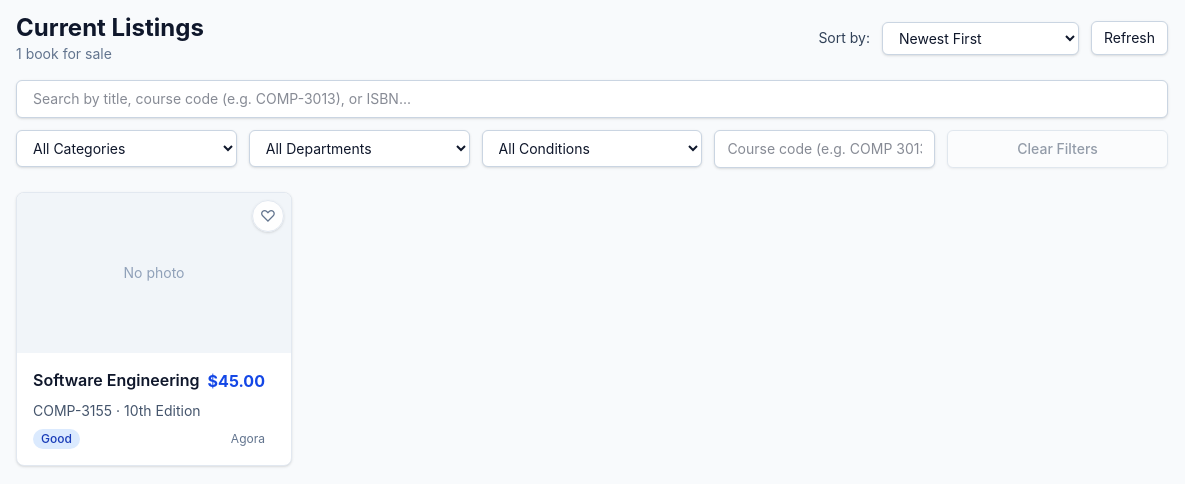
Test case: ListingsView Component › resets all filters and sorting when 'Clear Filters' is clicked
Check: the heading "Software Engineering" is shown, box [33, 369, 200, 391]
Check: the dropdown named "Filter by department" is enabled, box [249, 130, 470, 167]
Select "Textbooks (TEXT)" in the dropdown named "Filter by category" at (126, 148), box [16, 130, 237, 167]
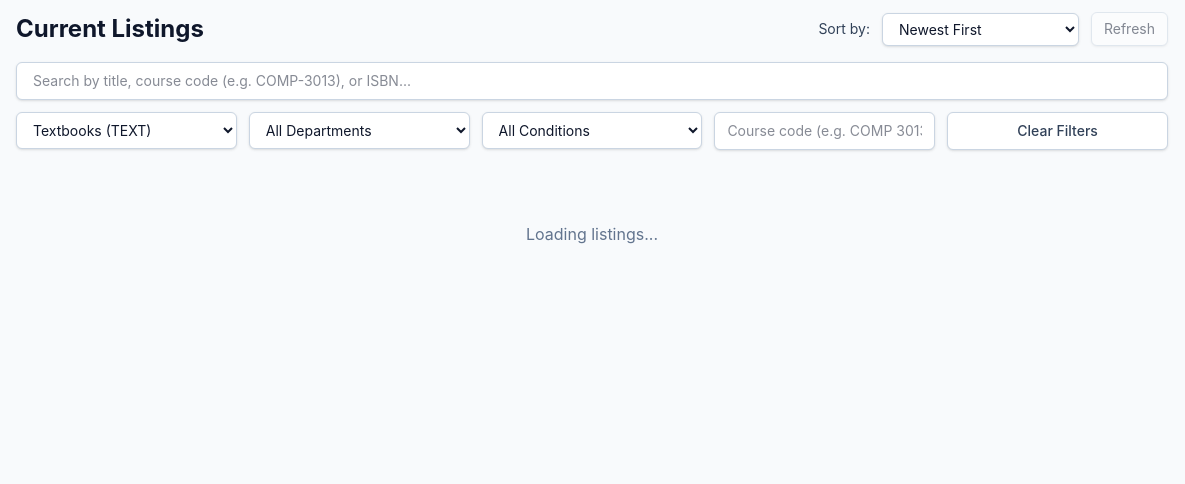
Select "Computer Science (COMP)" in the dropdown named "Filter by department" at (359, 130), box [249, 112, 470, 149]
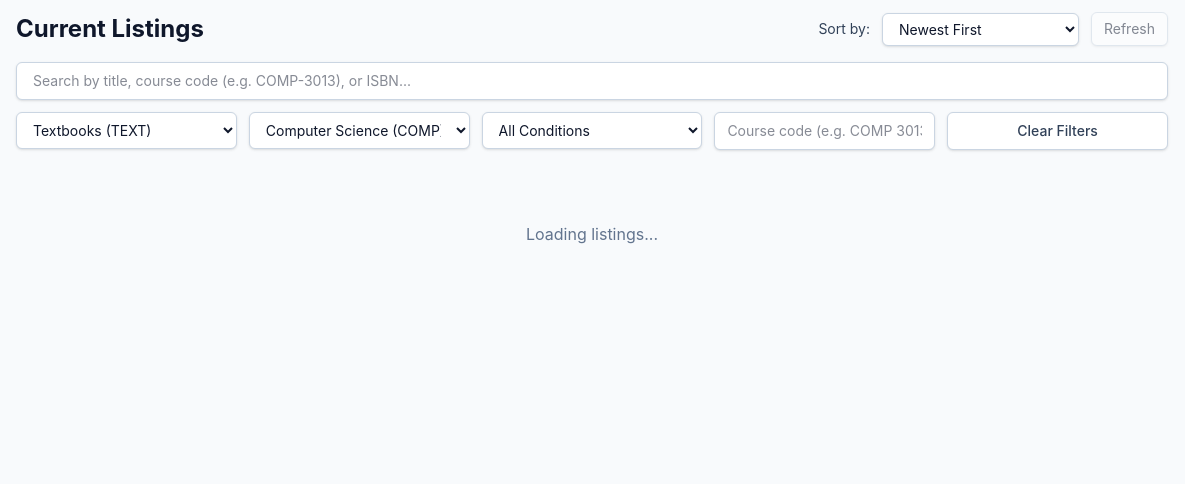
Select "Good" in the dropdown named "Filter by condition" at (592, 130), box [482, 112, 702, 149]
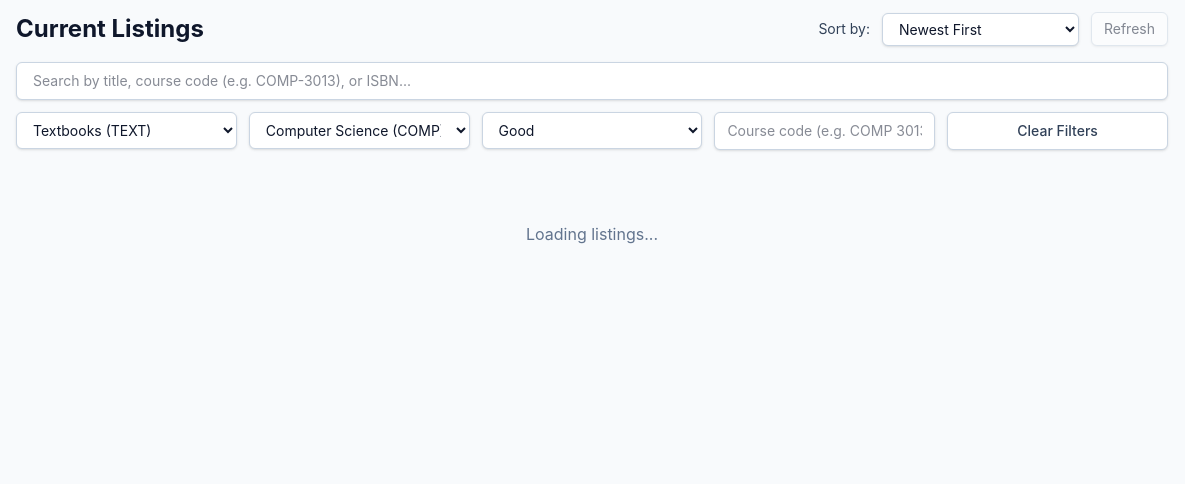
Type "COMP 3155" into the field named "Filter by course code" at (825, 131), box [714, 112, 935, 150]
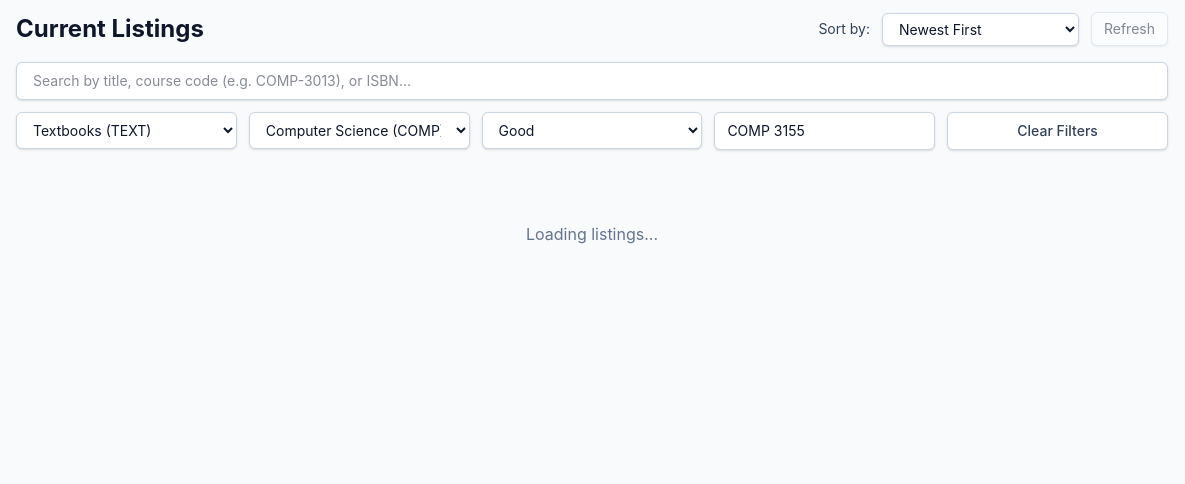
Select "Price: Low to High" in the dropdown labelled "Sort by:" at (980, 29), box [882, 12, 1079, 46]
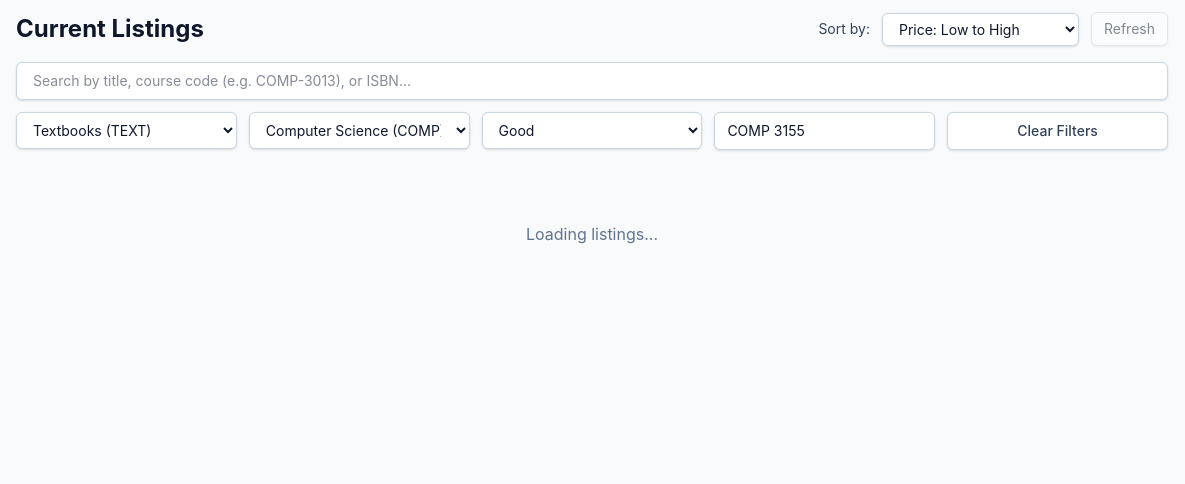
Check: the button "Clear Filters" is enabled
Click the button "Clear Filters" at (1058, 131), box [947, 112, 1168, 150]
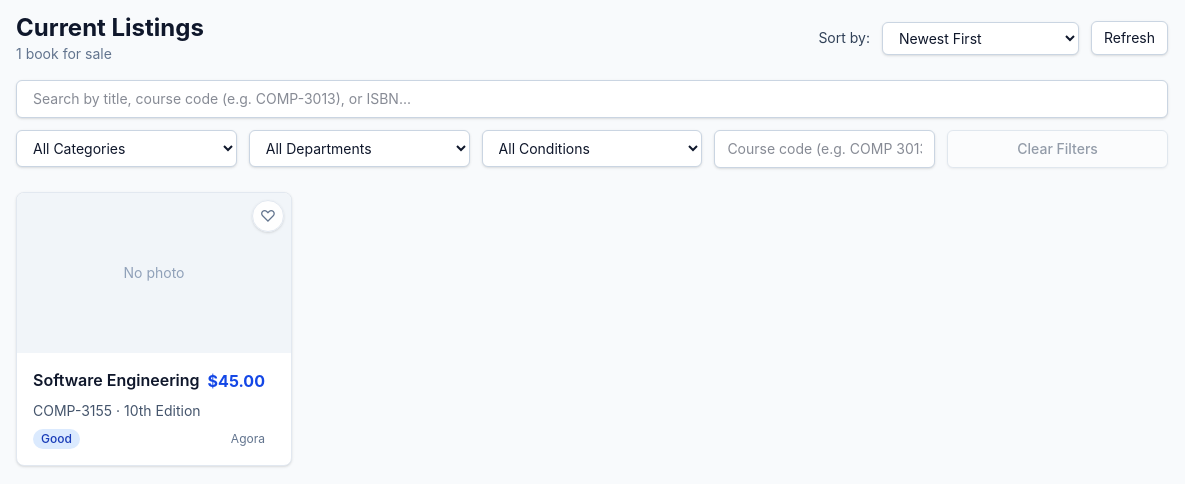
Check: the field named "Filter by course code" is empty, box [714, 130, 935, 168]
